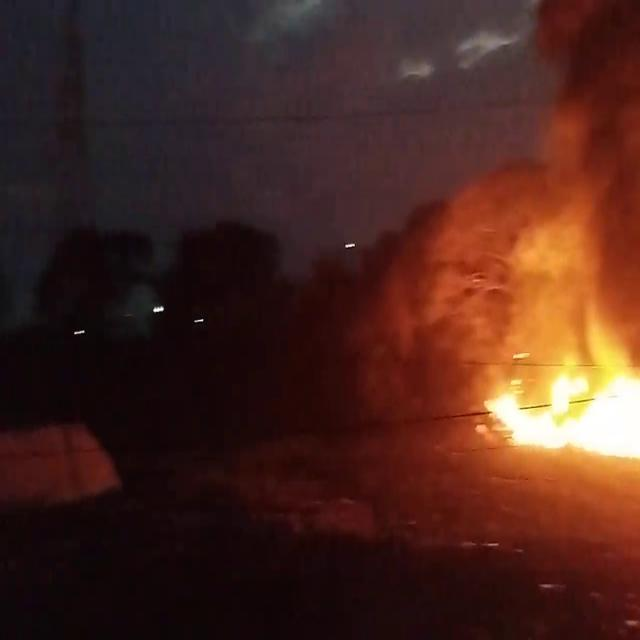Fire: (474, 344, 640, 478)
Smoke: (468, 0, 640, 339)
